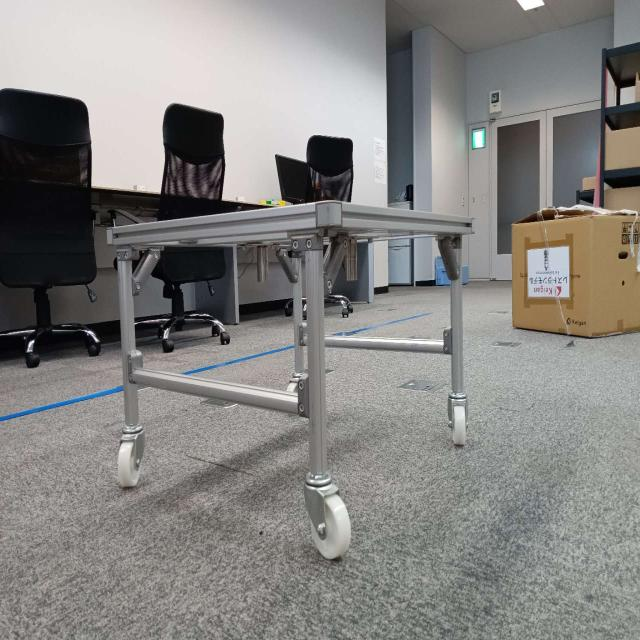box: (510, 209, 639, 340)
door: (312, 199, 463, 305)
side: (122, 206, 319, 421)
